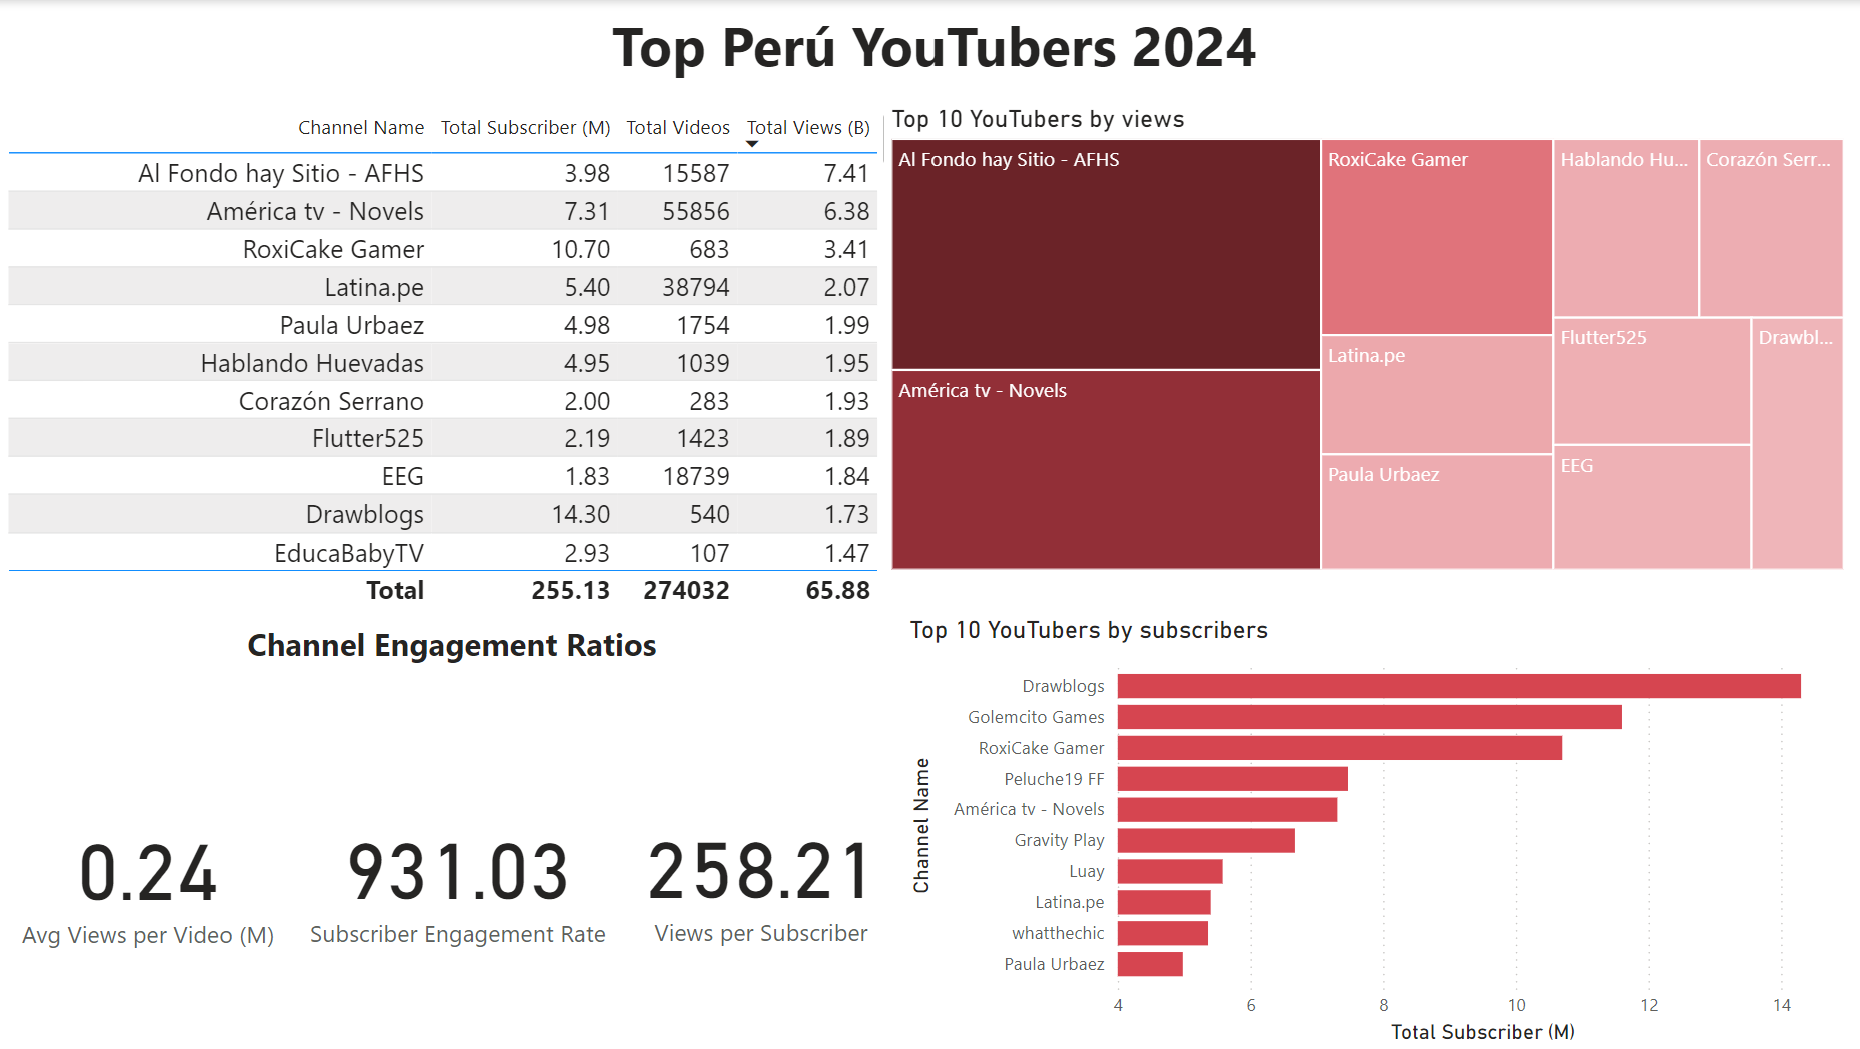

This screenshot's page, from the dashboard's own definition file:
{"tool":"powerbi","page":{"name":"Page 1","canvas":[1280,720],"ordinal":0},"visuals":[{"type":"textbox","box":[385.9,0,510.9,71.4],"z":0},{"type":"tableEx","fields":{"Values":["view_peru_youtubers_2024.channel_name","view_peru_youtubers_2024.Total Subscriber (M)","view_peru_youtubers_2024.Total Videos","view_peru_youtubers_2024.Total Views (B)"]},"box":[0,71.4,619.4,350.2],"z":1000},{"type":"treemap","title":"Top 10 YouTubers by views","fields":{"Group":["view_peru_youtubers_2024.channel_name"],"Values":["view_peru_youtubers_2024.Total Views (B)"]},"box":[607,71.4,663.3,324.1],"z":2000},{"type":"card","fields":{"Values":["view_peru_youtubers_2024.Avg Views per Video (M)"]},"box":[0,479.3,203.3,245.8],"z":3000},{"type":"card","fields":{"Values":["view_peru_youtubers_2024.Subscriber Engagement Rate"]},"box":[203.3,479.3,222.5,244.5],"z":4000},{"type":"card","fields":{"Values":["view_peru_youtubers_2024.Views per Subscriber"]},"box":[425.8,479.3,193.6,243.1],"z":5000},{"type":"clusteredBarChart","title":"Top 10 YouTubers by subscribers","fields":{"Category":["view_peru_youtubers_2024.channel_name"],"Y":["view_peru_youtubers_2024.Total Subscriber (M)"]},"box":[619.4,421.6,660.6,299.4],"z":6000},{"type":"textbox","box":[164.8,421.6,299.4,57.7],"z":7000}]}

Visuals, with their boxes in screenshot pixels (x1, y1, x2, y2), scaled from the page's 1280x720 canvas onto the 1860x1049 screenshot:
textbox: (x1=561, y1=0, x2=1303, y2=104)
tableEx - view_peru_youtubers_2024.channel_name x view_peru_youtubers_2024.Total Subscriber (M): (x1=0, y1=104, x2=900, y2=614)
"Top 10 YouTubers by views" treemap: (x1=882, y1=104, x2=1846, y2=576)
card - view_peru_youtubers_2024.Avg Views per Video (M): (x1=0, y1=698, x2=295, y2=1048)
card - view_peru_youtubers_2024.Subscriber Engagement Rate: (x1=295, y1=698, x2=619, y2=1048)
card - view_peru_youtubers_2024.Views per Subscriber: (x1=619, y1=698, x2=900, y2=1048)
"Top 10 YouTubers by subscribers" clusteredBarChart: (x1=900, y1=614, x2=1859, y2=1048)
textbox: (x1=239, y1=614, x2=675, y2=698)
